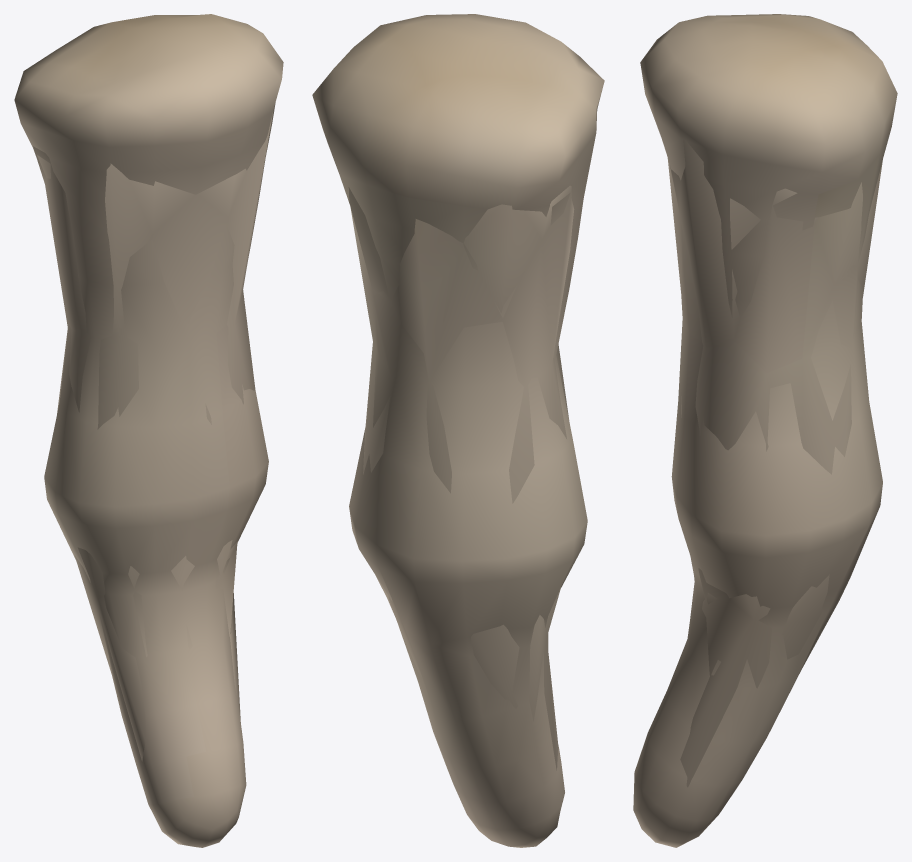
The model's file is vertebrae caudales 17.fbx.
The picture shows the model from 3 angles, left to right: view 1: azimuth 30°, elevation 25°; view 2: azimuth 150°, elevation 25°; view 3: azimuth 270°, elevation 25°; orthographic projection. The views are drawn at different scales.
Visible parts, largest first — view 1: vertebrae caudales 17, vertebrae caudales 17 low; view 2: vertebrae caudales 17, vertebrae caudales 17 low; view 3: vertebrae caudales 17, vertebrae caudales 17 low.
Part boxes in pixels (bbox=[...]): vertebrae caudales 17: bbox=[14, 14, 283, 847]; vertebrae caudales 17 low: bbox=[33, 111, 273, 761]; vertebrae caudales 17: bbox=[312, 14, 604, 847]; vertebrae caudales 17 low: bbox=[348, 185, 574, 770]; vertebrae caudales 17: bbox=[633, 14, 897, 847]; vertebrae caudales 17 low: bbox=[667, 139, 882, 787].
Size of the model in its own units: 0.8981 by 2.89 by 0.8463.
1 material, 1 textured.
